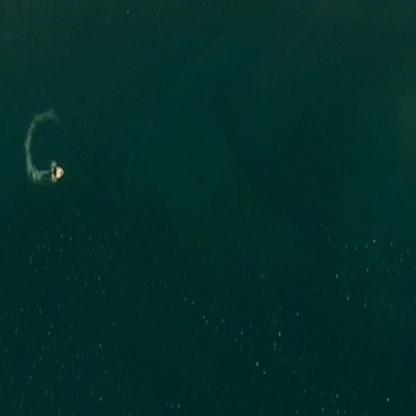ship: (47, 159, 68, 182)
